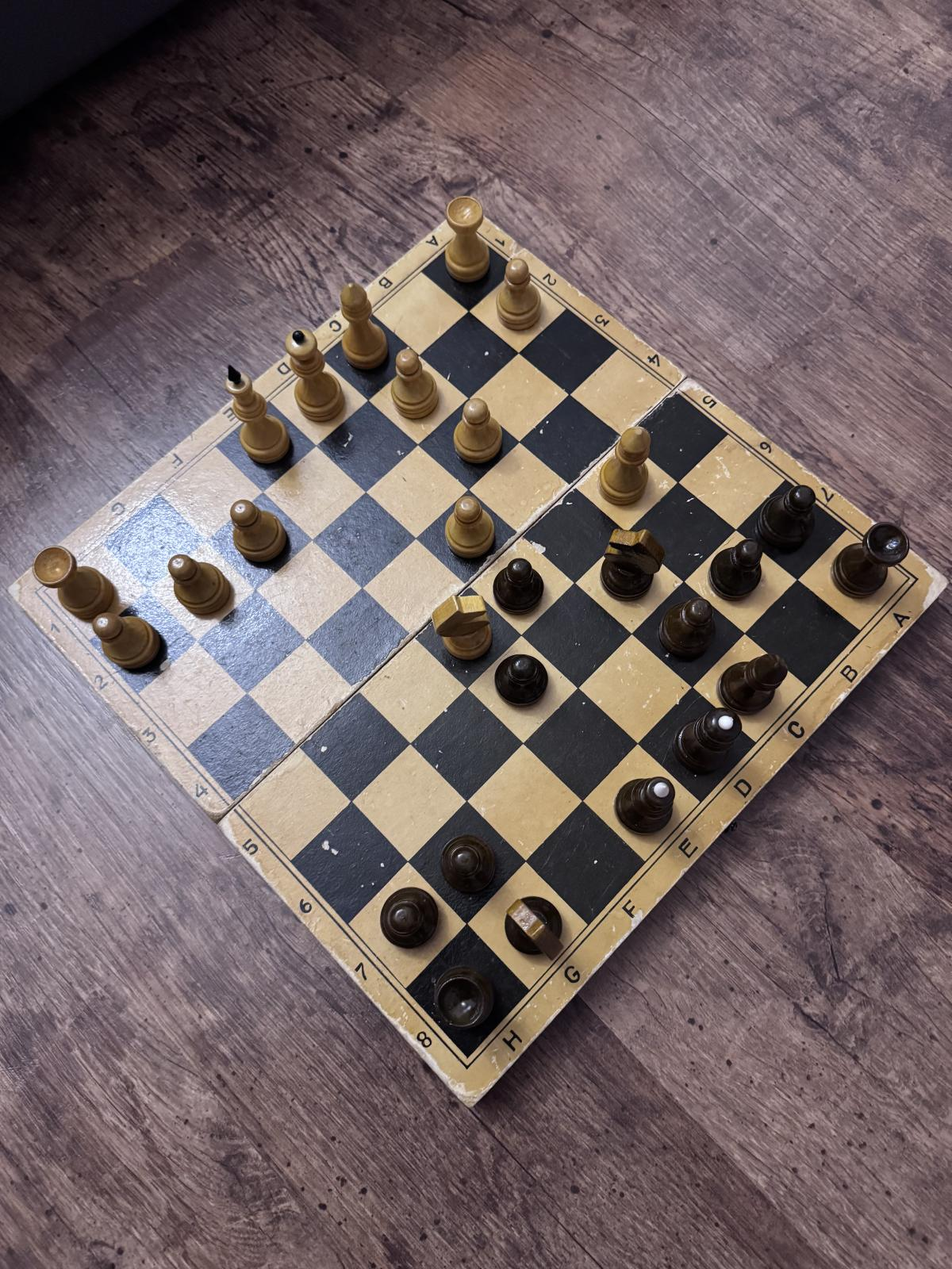Chess-Board: (45, 231, 909, 1057)
